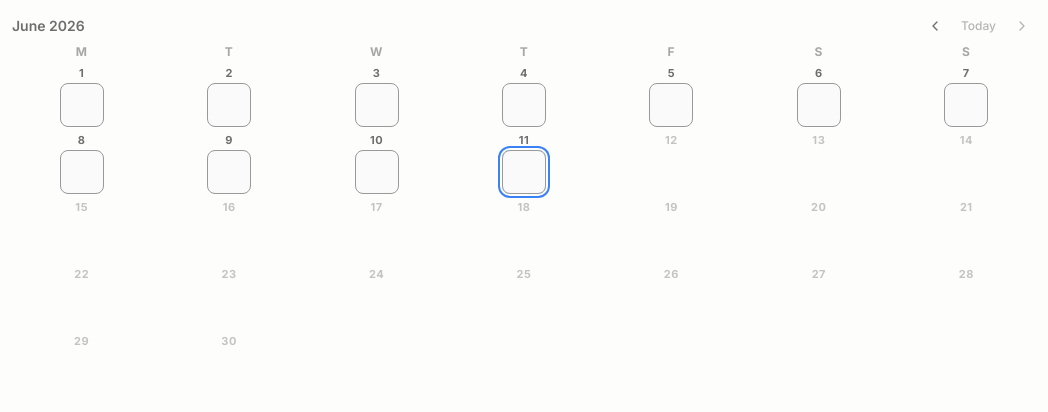
Test: HabitMonthGrid › navigates to earlier months with previous button and stops at start date
Click the button named "Previous month" at (935, 26), box 921,12 -> 949,40
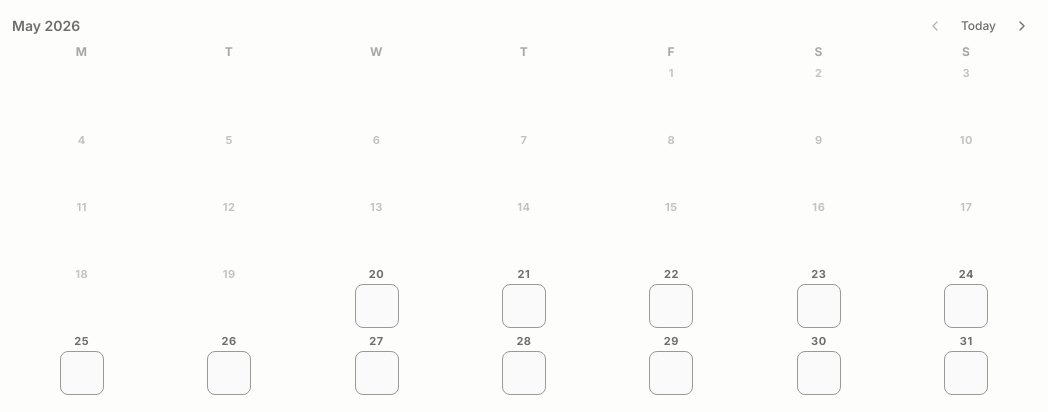
Check: the button named "Next month" is enabled, box 1008,12 -> 1036,40
Check: the button "Today" is enabled, box 953,12 -> 1004,40
